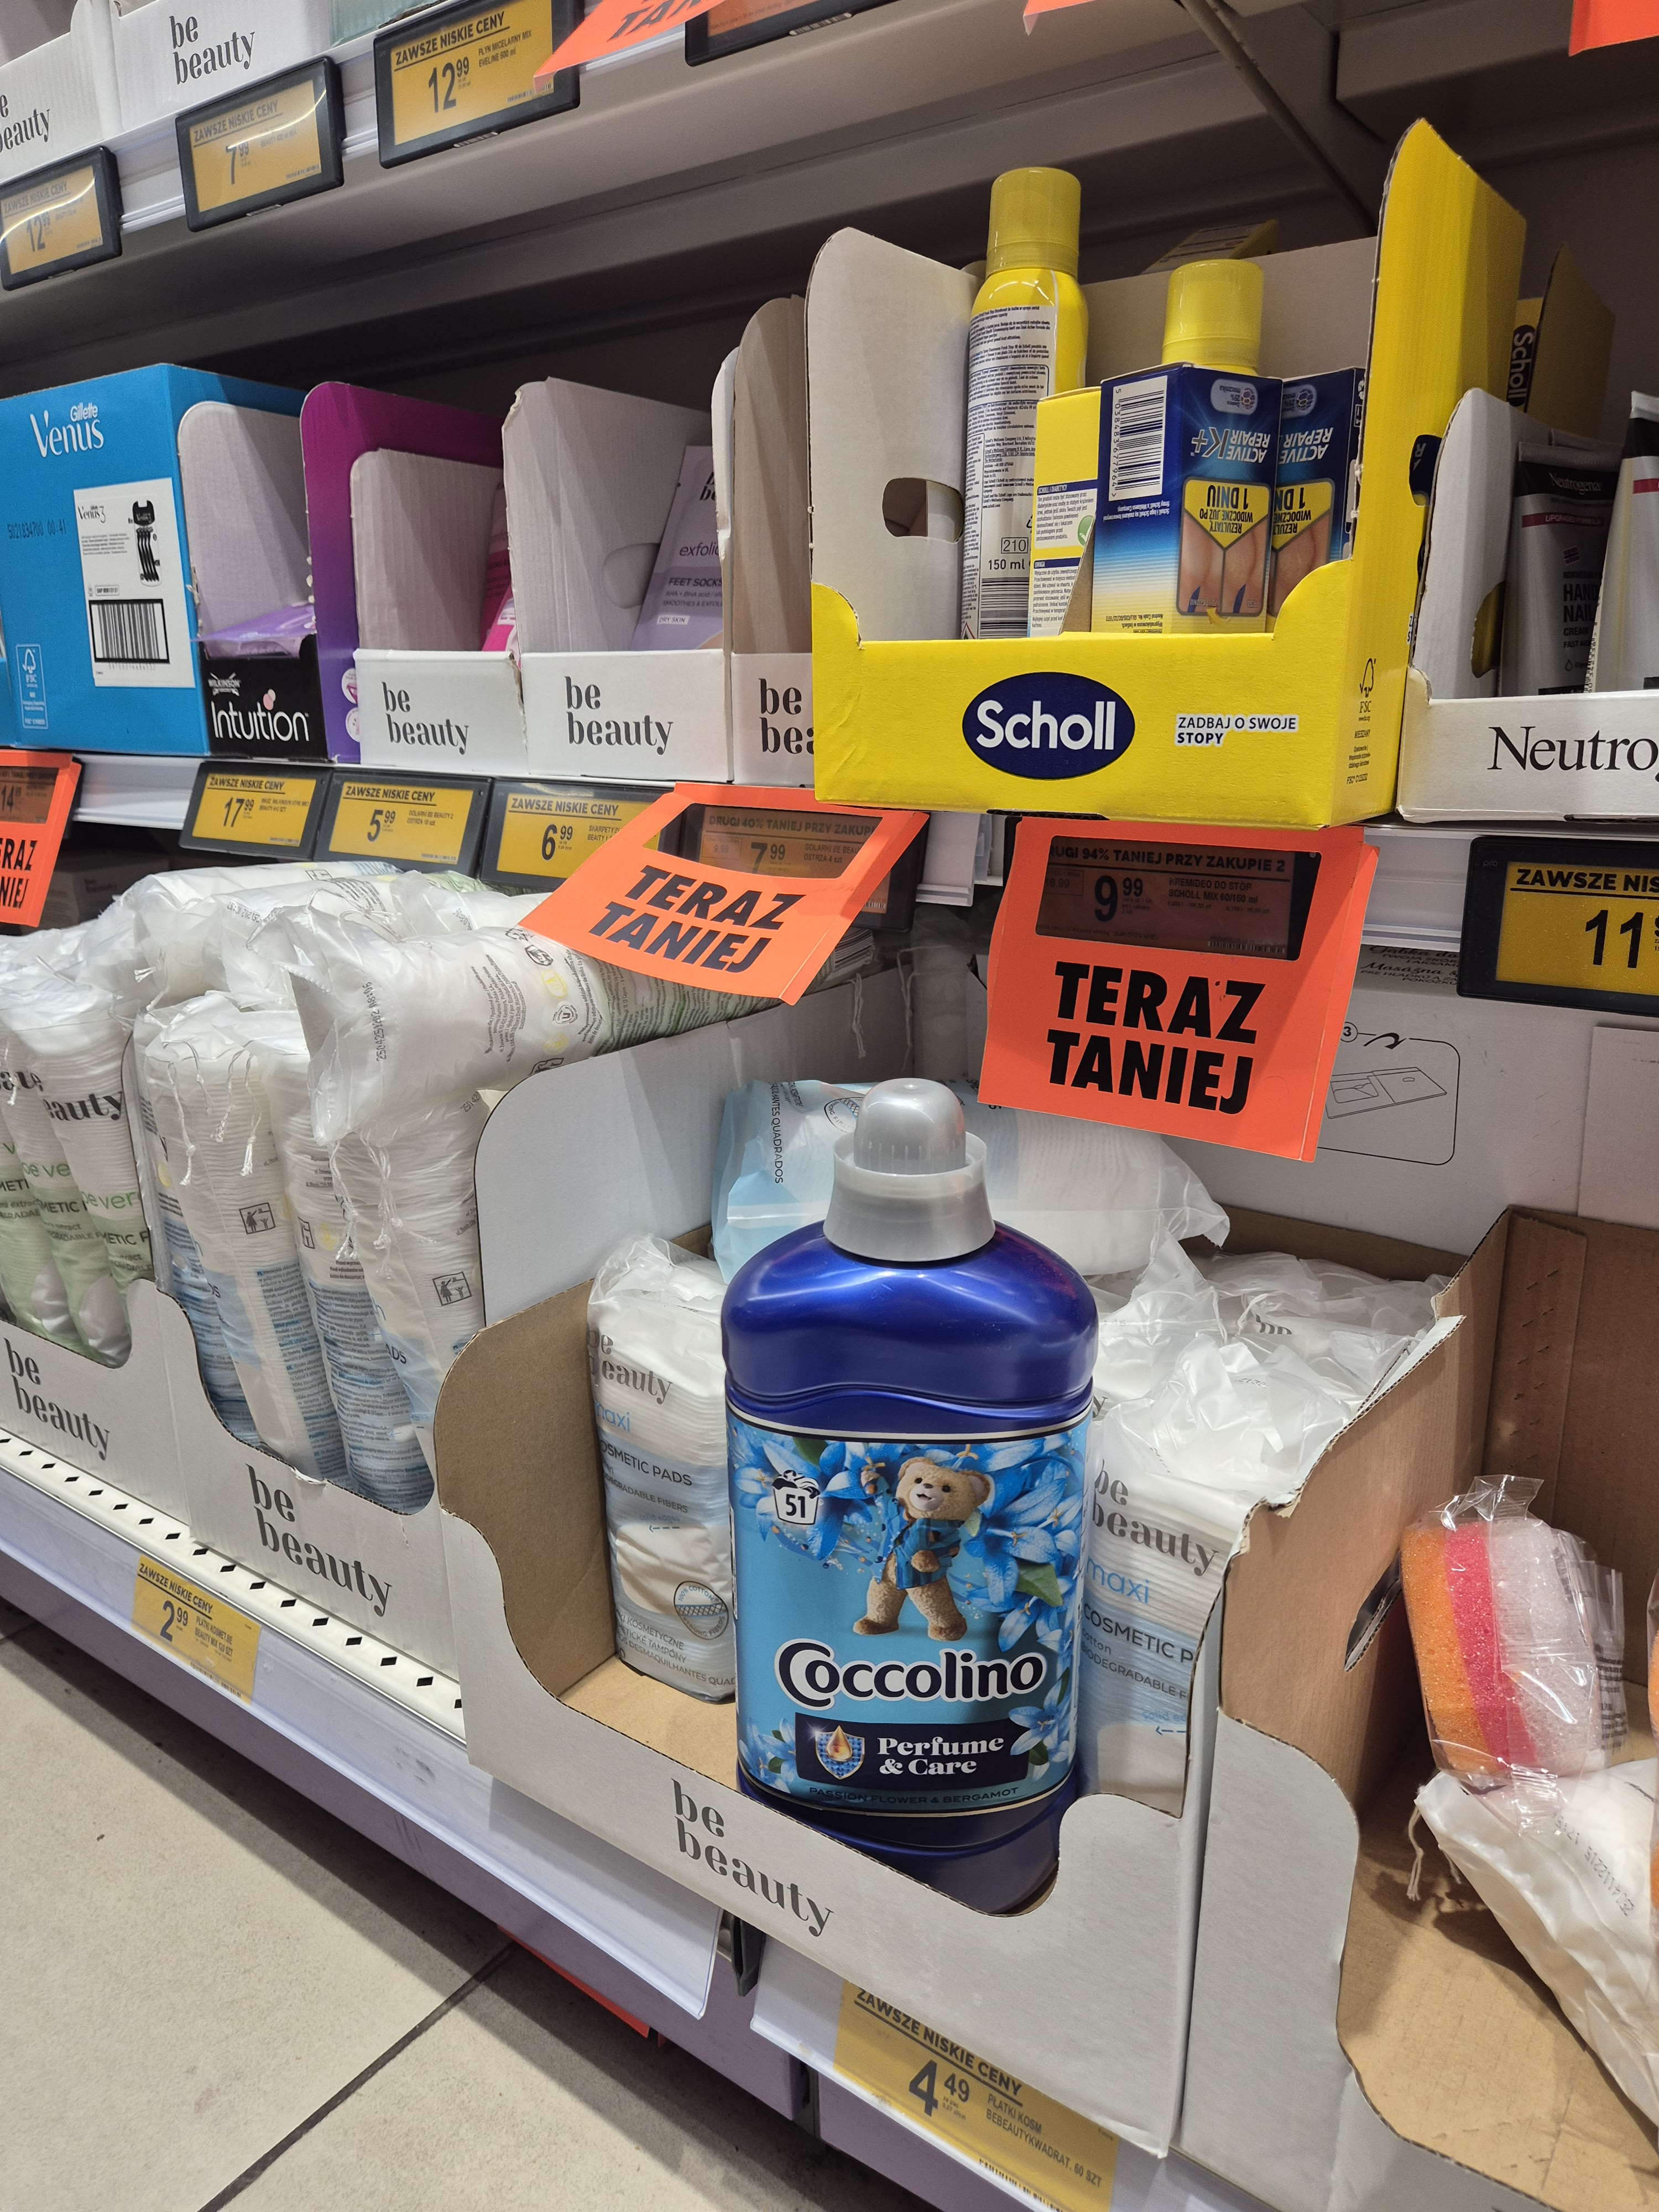cocolino: (730, 1075, 1112, 1893)
